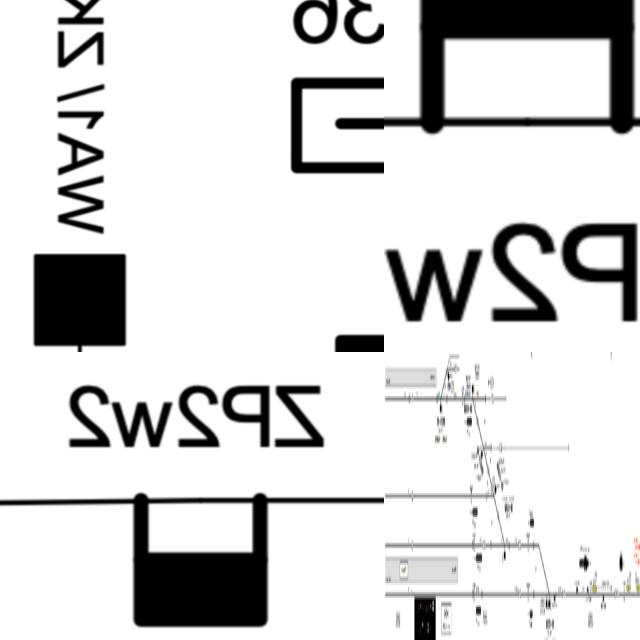mainsignal: (527, 518, 534, 527)
radzaehler: (384, 0, 640, 156), (122, 480, 292, 638), (586, 585, 588, 596), (576, 586, 578, 595), (554, 594, 556, 602)
trackjoint: (471, 536, 474, 553), (496, 510, 499, 524), (532, 587, 535, 601), (471, 587, 474, 601), (476, 415, 479, 428), (480, 588, 483, 600), (463, 394, 466, 405), (487, 466, 490, 476), (408, 392, 410, 407), (532, 540, 535, 549), (490, 539, 492, 550), (486, 492, 488, 502), (436, 395, 438, 404), (446, 395, 448, 404)
tracknumber: (614, 588, 620, 600), (518, 532, 521, 556), (482, 538, 486, 551), (490, 392, 494, 404), (411, 537, 414, 552), (562, 586, 565, 599), (454, 364, 457, 377), (518, 588, 521, 600), (499, 443, 503, 452), (411, 488, 413, 502), (411, 590, 413, 602), (412, 393, 413, 402)
weiche: (18, 244, 140, 352), (480, 442, 486, 460), (493, 483, 498, 503), (502, 540, 506, 564), (439, 392, 442, 416), (548, 588, 551, 612), (546, 586, 548, 613), (446, 368, 450, 380), (472, 384, 474, 401)
